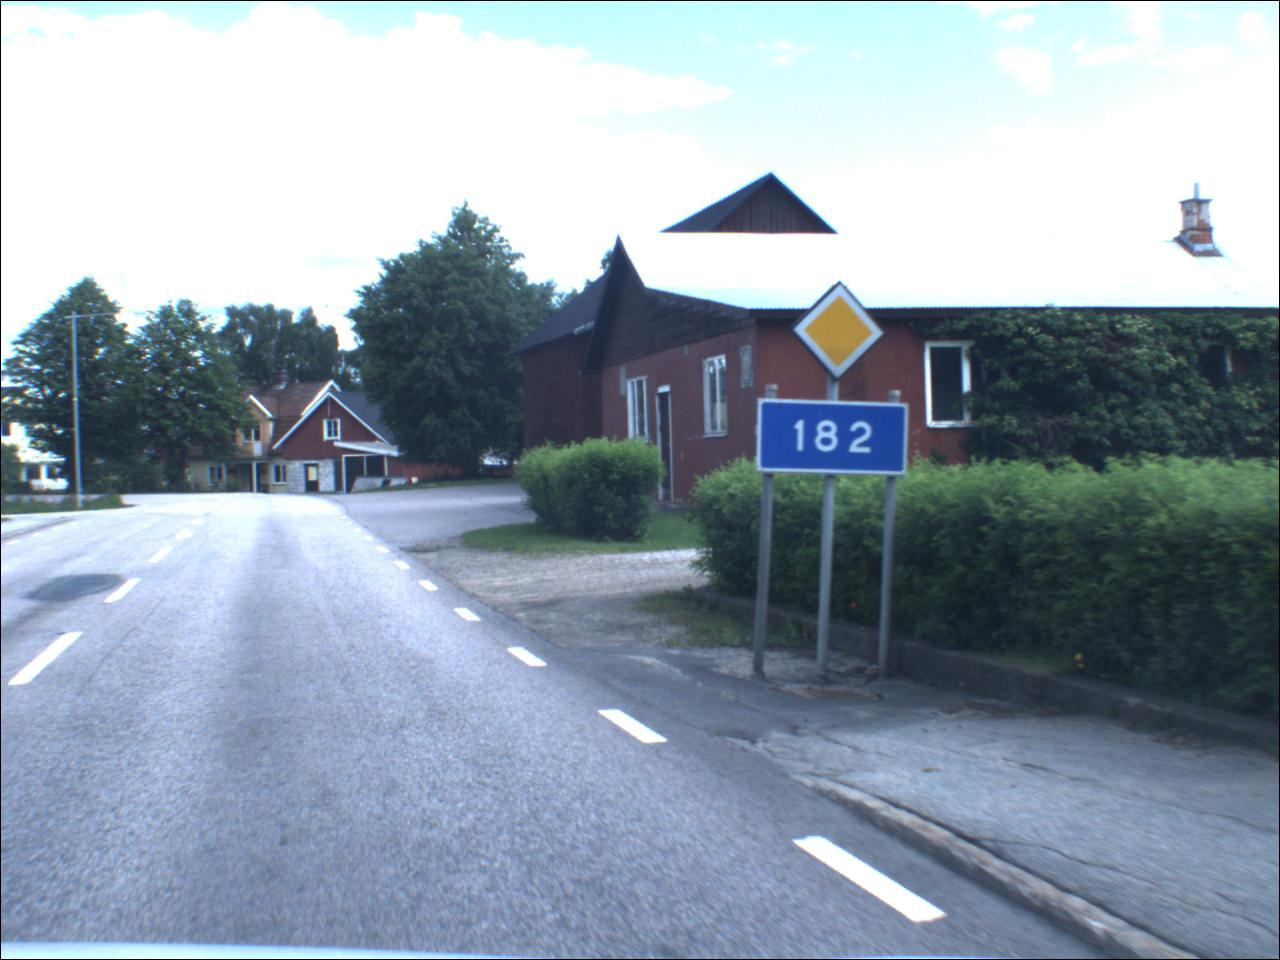PRIORITY_ROAD: (789, 280, 890, 384)
